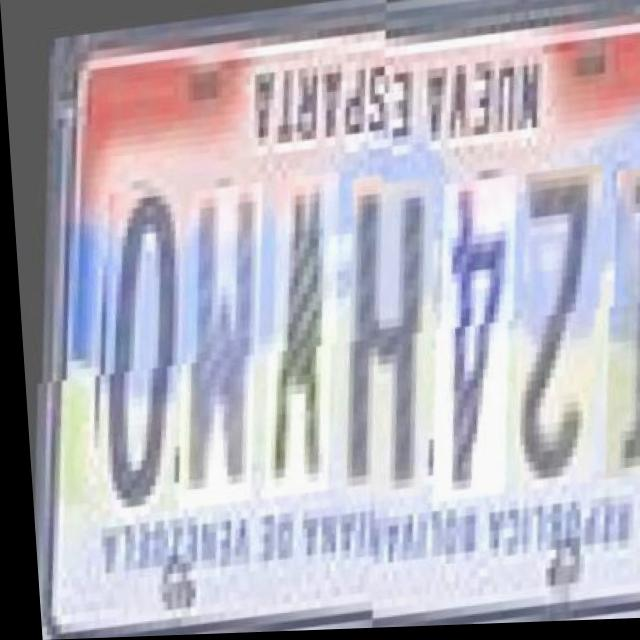2: (487, 157, 604, 482)
4: (405, 166, 516, 491)
h: (314, 166, 435, 491)
i: (580, 158, 640, 473)
m: (151, 175, 261, 500)
o: (67, 175, 185, 508)
w: (238, 168, 339, 492)
